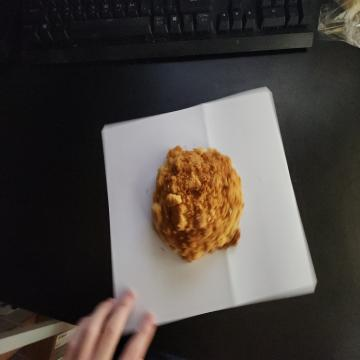soboru_bread: (146, 150, 244, 263)
